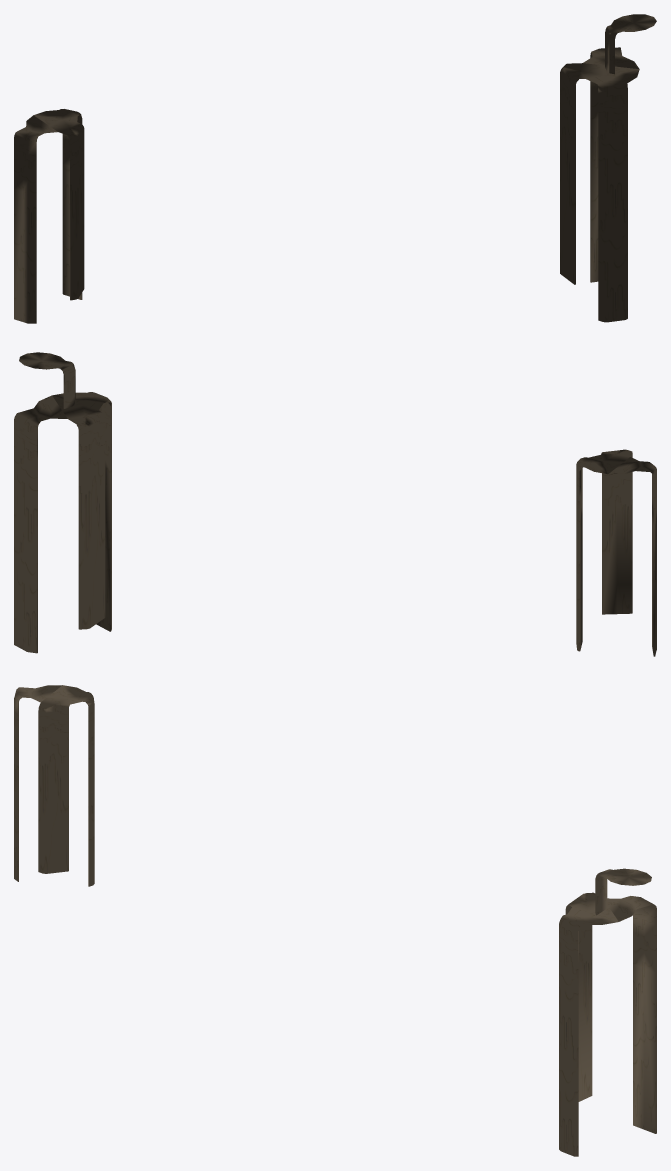
Rendered from stg220_MotChocoA_02.obj.
3 renders of one model, top to bottom at view 1: azimuth 30°, elevation 25°; view 2: azimuth 150°, elevation 25°; view 3: azimuth 330°, elevation 25°, orthographic.
Visible parts, largest first — view 1: polygon0, polygon1; view 2: polygon0, polygon1; view 3: polygon0, polygon1.
Part boxes in pixels (x1,y1,x2,y2): polygon0: (560,14,656,322); polygon1: (14,109,84,323); polygon0: (14,352,111,653); polygon1: (576,449,656,656); polygon0: (559,868,656,1156); polygon1: (14,685,94,886).
Bounding box in the file's own units: 4625 × 2154 × 610.
1 material, 1 textured.
